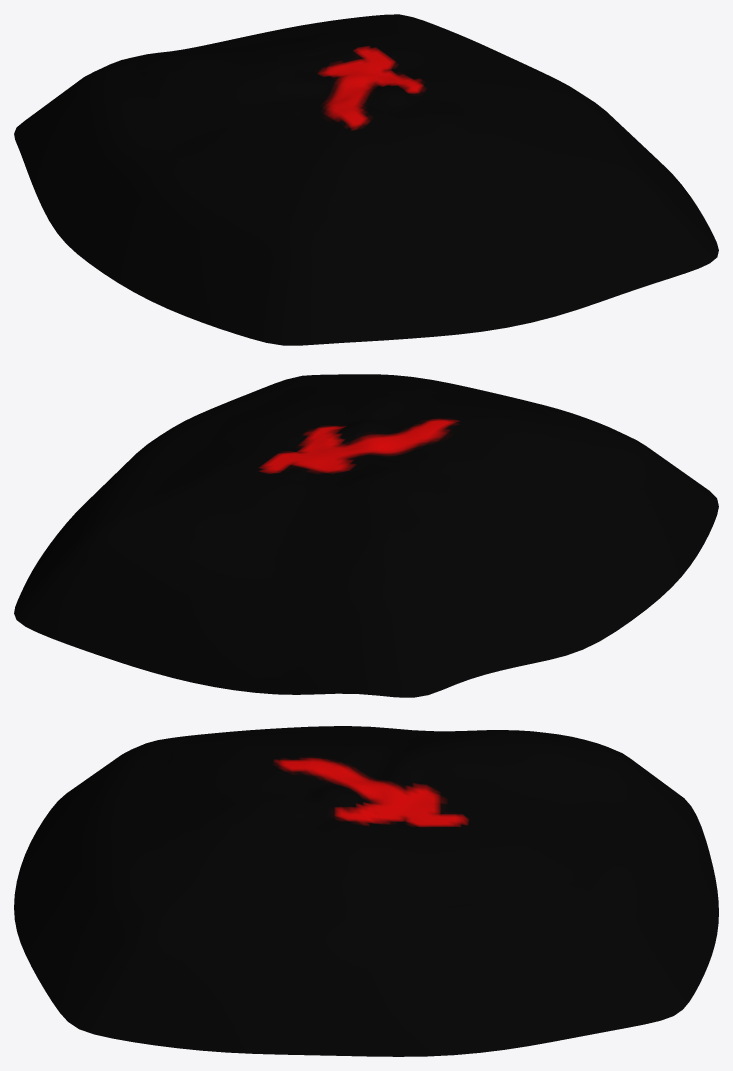
Rendered from SnowPlane.fbx.
3 renders of one model, top to bottom at view 1: azimuth 30°, elevation 25°; view 2: azimuth 150°, elevation 25°; view 3: azimuth 270°, elevation 25°, orthographic. The views are drawn at different scales.
Parts seen in each view (by area): view 1: SnowPlane; view 2: SnowPlane; view 3: SnowPlane.
Part boxes in pixels (left/top/right/bottom): SnowPlane: left=14, top=14, right=718, bottom=345; SnowPlane: left=14, top=374, right=718, bottom=697; SnowPlane: left=14, top=726, right=718, bottom=1056.
Size of the model in its own units: 67.51 by 15.66 by 72.31.
